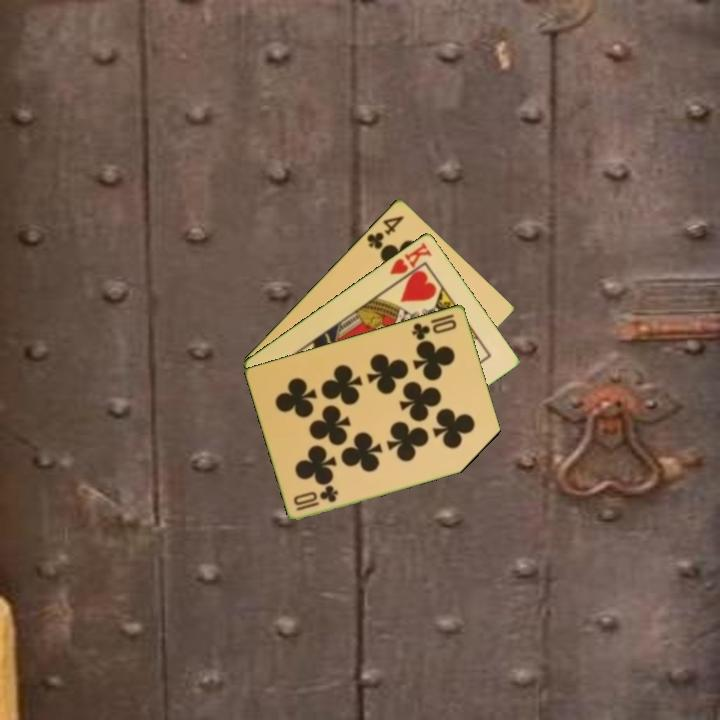10c: (408, 310, 460, 343), (293, 483, 341, 513)
4c: (363, 211, 407, 252)
Kh: (386, 238, 435, 286)
